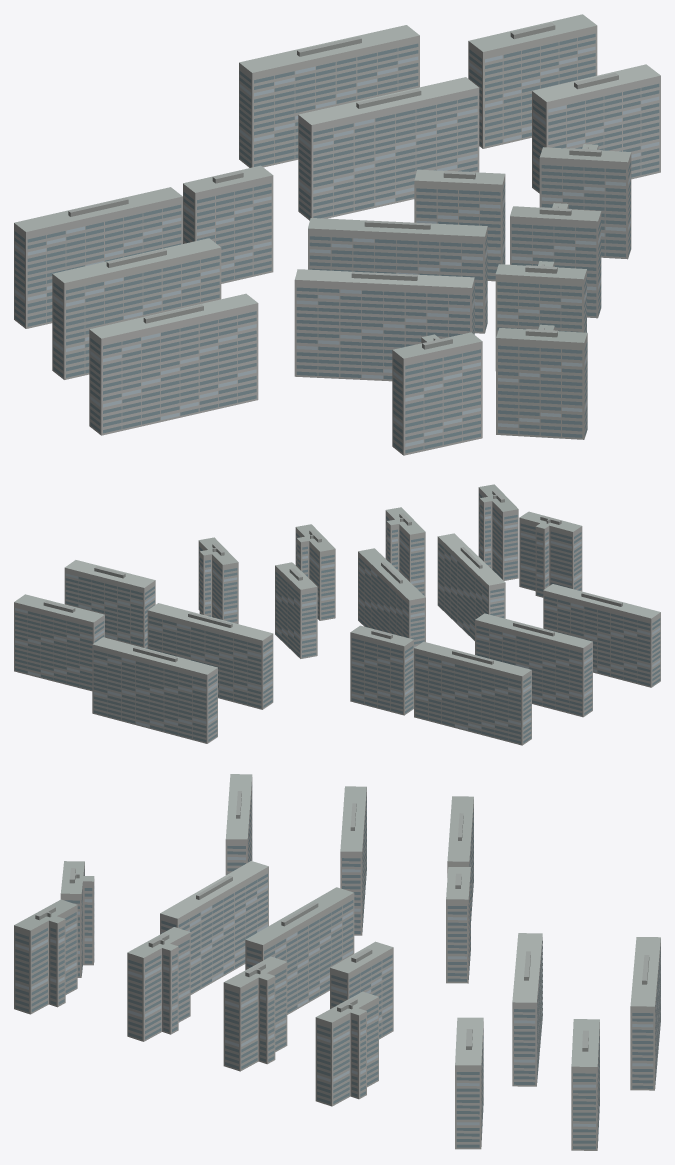
The model's file is apt-a13922114.glb.
3 views of the same model, one above another, from view 1: azimuth 30°, elevation 25°; view 2: azimuth 150°, elevation 25°; view 3: azimuth 270°, elevation 25° (orthographic). The views are drawn at different scales.
Parts seen in each view (by area): view 1: apt-a13922114; view 2: apt-a13922114; view 3: apt-a13922114.
Part boxes in pixels (x1,y1,x2,y2): apt-a13922114: (14, 14, 660, 455); apt-a13922114: (14, 484, 660, 745); apt-a13922114: (14, 774, 660, 1150).
Bounding box in the file's own units: 342 × 47.81 × 320.
